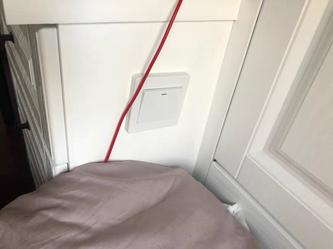switch: (143, 90, 188, 123)
